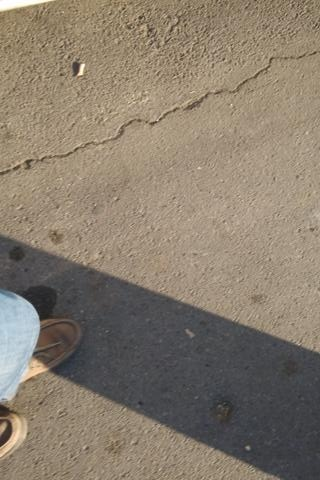A: (3, 50, 320, 179)
